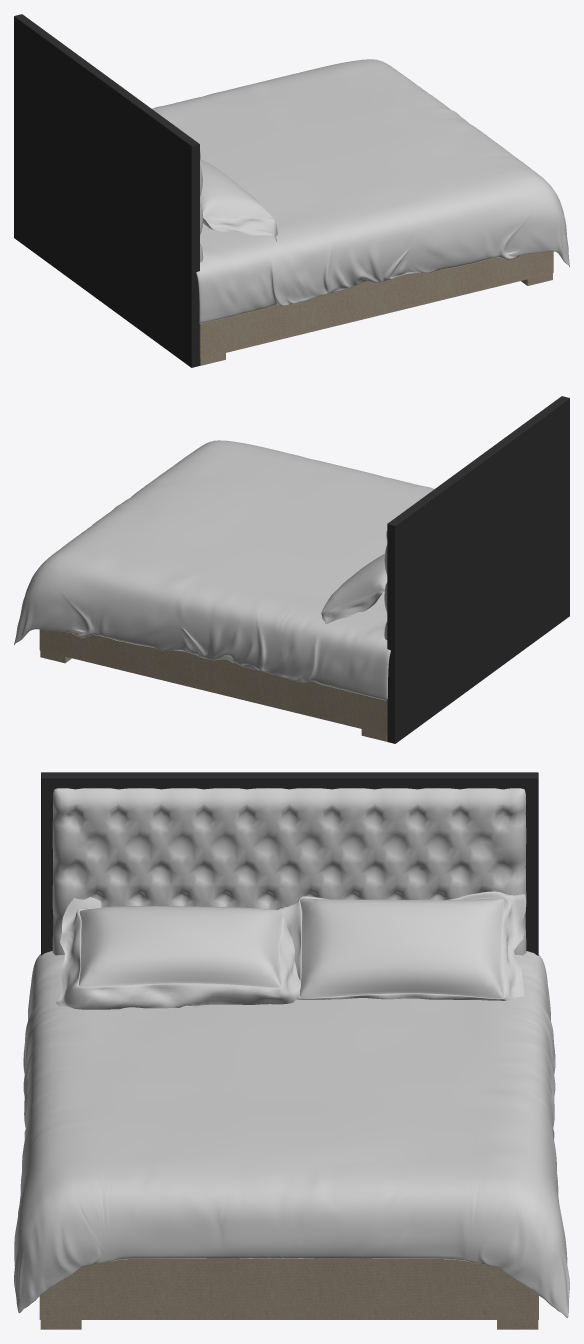
The model's file is ZW_chuang.fbx.
3 views of the same model, one above another, from view 1: azimuth 30°, elevation 25°; view 2: azimuth 150°, elevation 25°; view 3: azimuth 270°, elevation 25° (orthographic). The views are drawn at different scales.
Parts seen in each view (by area): view 1: ZW_chuang; view 2: ZW_chuang; view 3: ZW_chuang.
Boxes of the visible parts, x1,y1,x2,y2 form: ZW_chuang: (14,14,569,367); ZW_chuang: (14,396,569,743); ZW_chuang: (14,772,569,1329).
Size of the model in its own units: 304 by 170 by 276.
